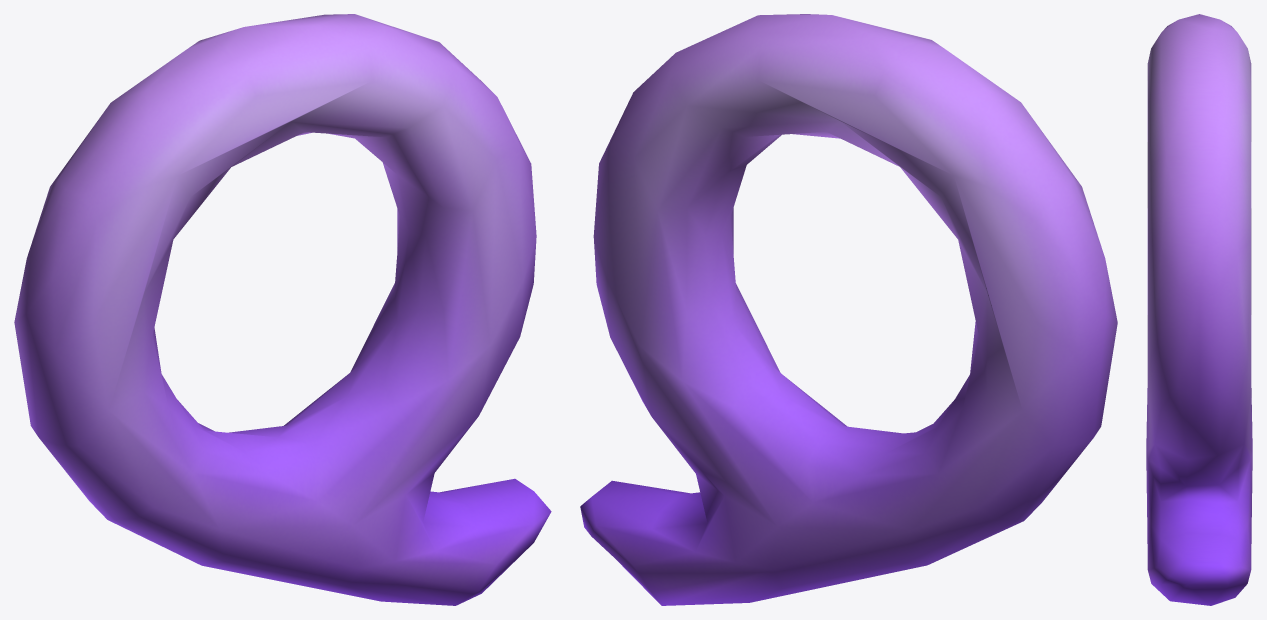
3 views of the same model, side by side, from view 1: azimuth 30°, elevation 25°; view 2: azimuth 150°, elevation 25°; view 3: azimuth 270°, elevation 25° (orthographic). The views are drawn at different scales.
Parts seen in each view (by area): view 1: Processed_Mesh0_Geometry; view 2: Processed_Mesh0_Geometry; view 3: Processed_Mesh0_Geometry.
Part boxes in pixels (box(x1,y1,x2,y2)): Processed_Mesh0_Geometry: box(14, 14, 551, 605); Processed_Mesh0_Geometry: box(580, 14, 1117, 605); Processed_Mesh0_Geometry: box(1146, 14, 1252, 605).
Size of what is drawn, in the model's own units: 0.0855 by 0.0979 by 0.019.
Materials: 1 (1 with a texture image).
